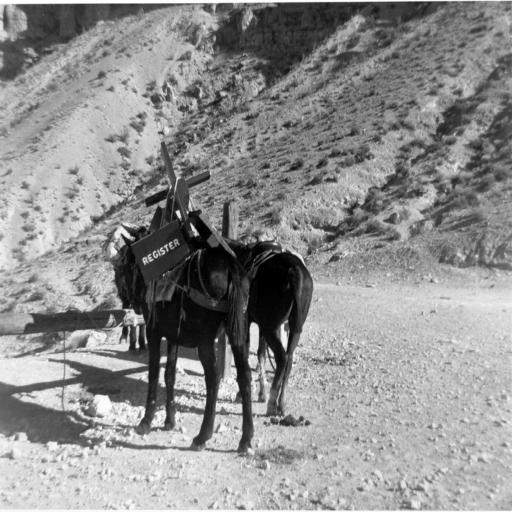horse: (122, 234, 258, 452), (184, 237, 314, 414), (112, 222, 150, 355)
